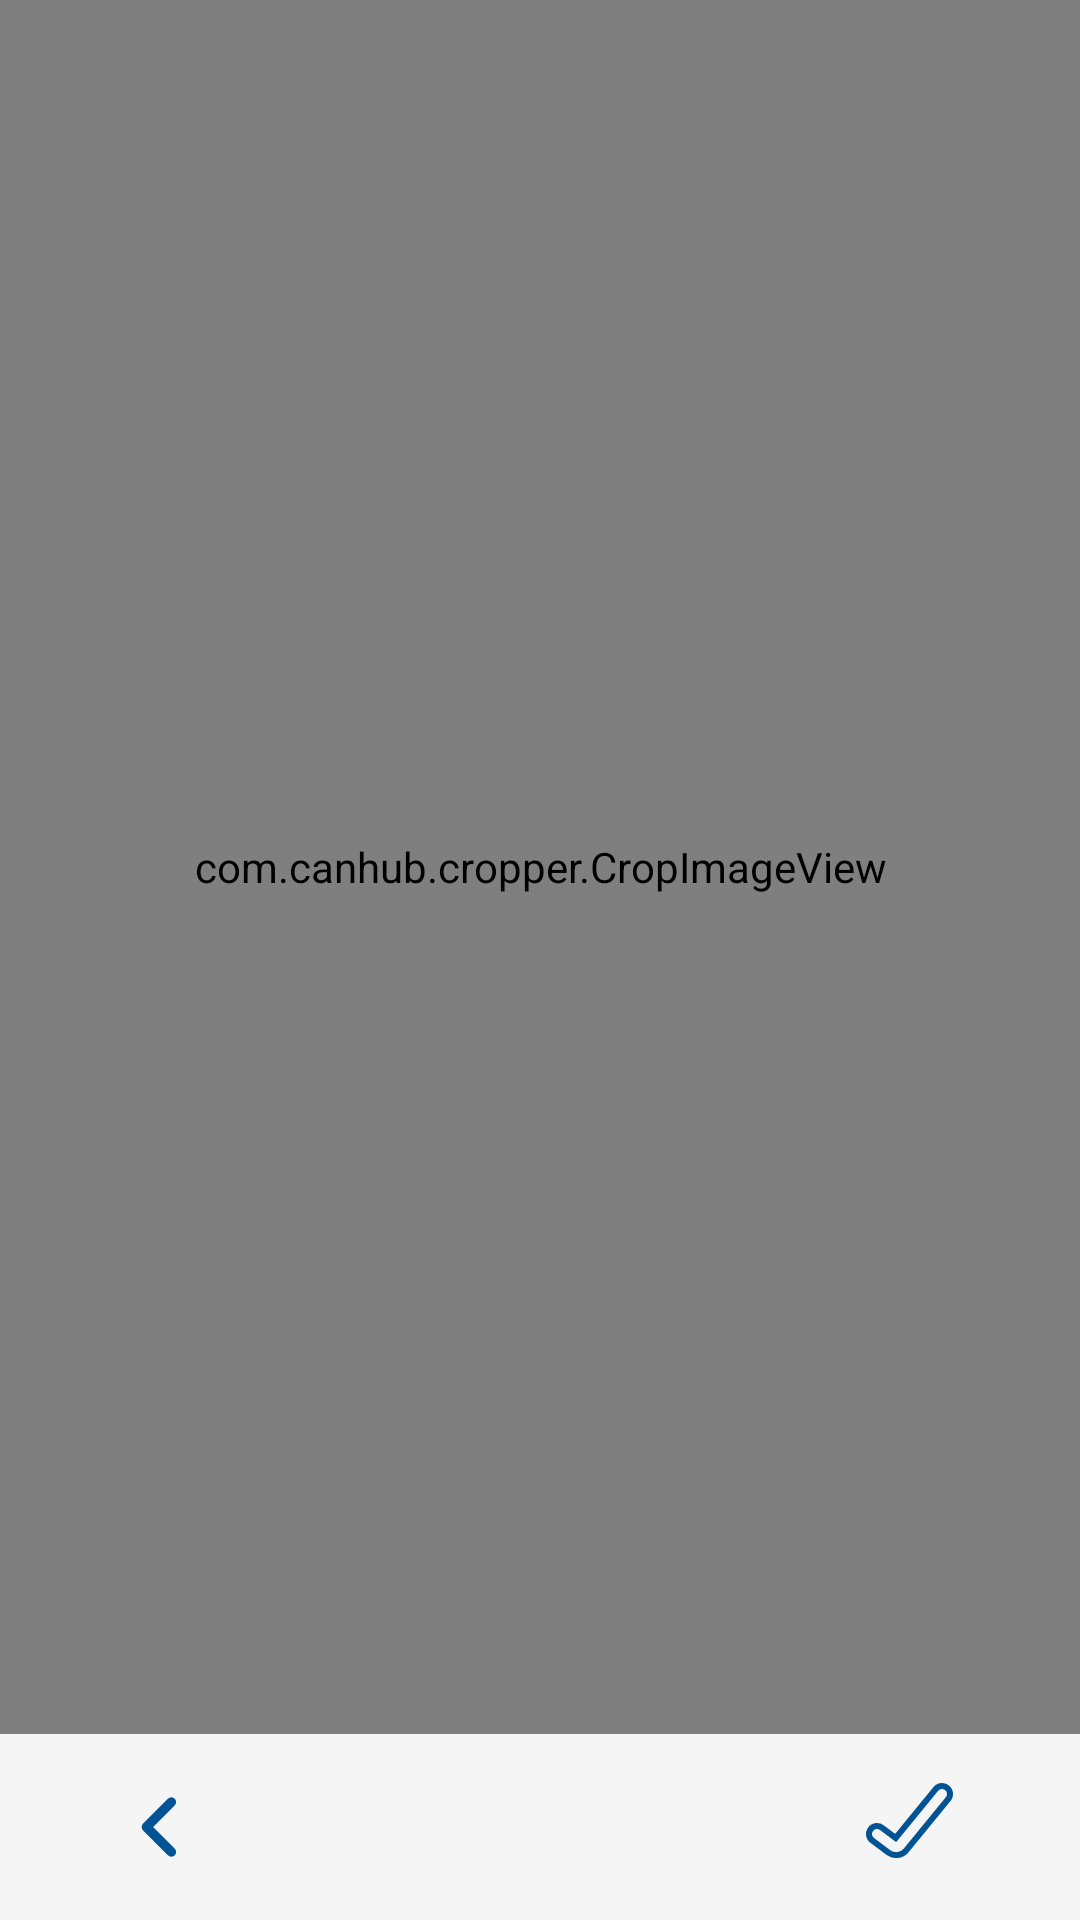

Screen size 1080px×1920px. Icon name, then its center in pixels as point (x, y):
back arrow: point (158, 1827)
done: point (909, 1820)
